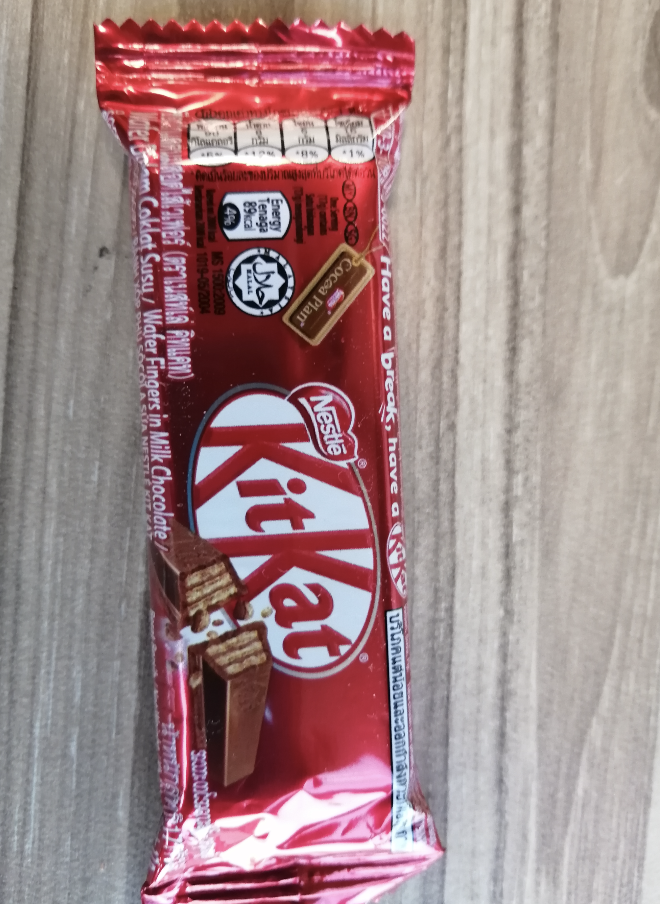Kitkat: (136, 36, 402, 871)
